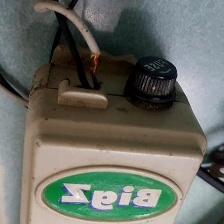three_eye_plug: (14, 41, 212, 224)
